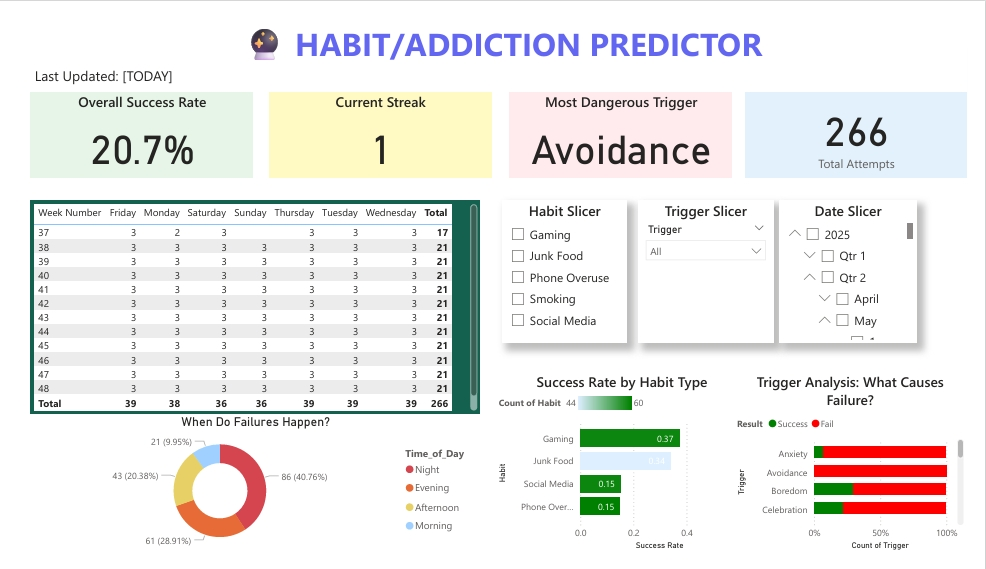

The page's visual inventory and layout, read from the dashboard file:
{"tool":"powerbi","page":{"name":"Page 1","canvas":[1280,720],"ordinal":0},"visuals":[{"type":"textbox","box":[281,0,746.3,77.6],"z":0},{"type":"card","title":"Overall Success Rate","fields":{"Values":["habit_data.Success Rate %"]},"box":[19,99.5,300,115.6],"z":1000},{"type":"card","title":"Current Streak","fields":{"Values":["habit_data.Current Streak"]},"box":[339.5,99.5,300,115.6],"z":2000},{"type":"card","title":"Most Dangerous Trigger","fields":{"Values":["habit_data.Most Dangerous Trigger"]},"box":[664.4,99.5,300,115.6],"z":3000},{"type":"card","fields":{"Values":["habit_data.Total Attempts"]},"box":[982,99.5,298.5,115.6],"z":4000},{"type":"pivotTable","fields":{"Rows":["habit_data.Week Number"],"Columns":["habit_data.Day Name"],"Values":["CountNonNull(habit_data.Success (Binary))"]},"box":[19,245.9,605.9,286.8],"z":5000},{"type":"clusteredBarChart","title":"Success Rate by Habit Type","fields":{"Category":["habit_data.Habit"],"Y":["habit_data.Success Rate"]},"box":[643.8,476.2,342.5,243.8],"z":6000},{"type":"donutChart","title":"When Do Failures Happen?","fields":{"Y":["habit_data.Fail Count"],"Category":["habit_data.Time_of_Day"]},"box":[19,532.7,605.9,187.3],"z":7000},{"type":"hundredPercentStackedBarChart","title":"Trigger Analysis: What Causes Failure?","fields":{"Category":["habit_data.Trigger"],"Y":["CountNonNull(habit_data.Trigger)"],"Series":["habit_data.Result"]},"box":[965,476.2,315,243.8],"z":8000},{"type":"slicer","title":"Habit Slicer","fields":{"Values":["habit_data.Habit"]},"box":[654.1,245.9,168.3,191.7],"z":9000},{"type":"slicer","title":"Trigger Slicer","fields":{"Values":["habit_data.Trigger"]},"box":[837.1,245.9,181.5,191.7],"z":10000},{"type":"slicer","title":"Date Slicer ","fields":{"Values":["habit_data.Date.Variation.Date Hierarchy.Year","habit_data.Date.Variation.Date Hierarchy.Quarter","habit_data.Date.Variation.Date Hierarchy.Month","habit_data.Date.Variation.Date Hierarchy.Day"]},"box":[1027.3,245.9,184.4,191.7],"z":11000},{"type":"textbox","box":[19,60,234.1,39.5],"z":11002}]}

Visuals, with their boxes in screenshot pixels (x1, y1, x2, y2), scaled from the page's 1280x720 canvas onto the 986x569 screenshot:
textbox: <box>216,0,791,61</box>
"Overall Success Rate" card: <box>15,79,246,170</box>
"Current Streak" card: <box>262,79,493,170</box>
"Most Dangerous Trigger" card: <box>512,79,743,170</box>
card - habit_data.Total Attempts: <box>756,79,985,170</box>
pivotTable - habit_data.Week Number x habit_data.Day Name: <box>15,194,481,421</box>
"Success Rate by Habit Type" clusteredBarChart: <box>496,376,760,568</box>
"When Do Failures Happen?" donutChart: <box>15,421,481,568</box>
"Trigger Analysis: What Causes Failure?" hundredPercentStackedBarChart: <box>743,376,985,568</box>
"Habit Slicer" slicer: <box>504,194,634,346</box>
"Trigger Slicer" slicer: <box>645,194,785,346</box>
"Date Slicer " slicer: <box>791,194,933,346</box>
textbox: <box>15,47,195,79</box>
